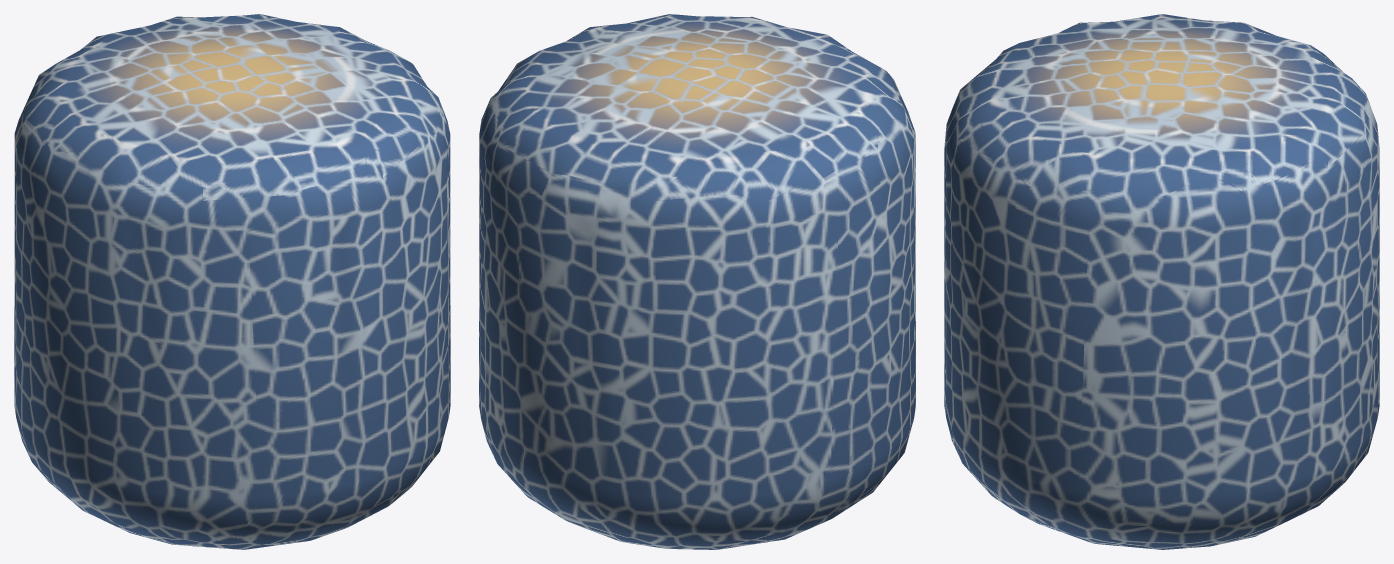
The model's file is rock_a.glb.
3 views of the same model, side by side, from view 1: azimuth 30°, elevation 25°; view 2: azimuth 150°, elevation 25°; view 3: azimuth 270°, elevation 25° (orthographic).
Parts seen in each view (by area): view 1: Rock; view 2: Rock; view 3: Rock.
Boxes of the visible parts, left/top/right/bottom form: Rock: left=14, top=14, right=450, bottom=549; Rock: left=479, top=14, right=915, bottom=549; Rock: left=944, top=14, right=1379, bottom=549.
Bounding box in the file's own units: 2 × 2.24 × 2.
1 material, 1 textured.
